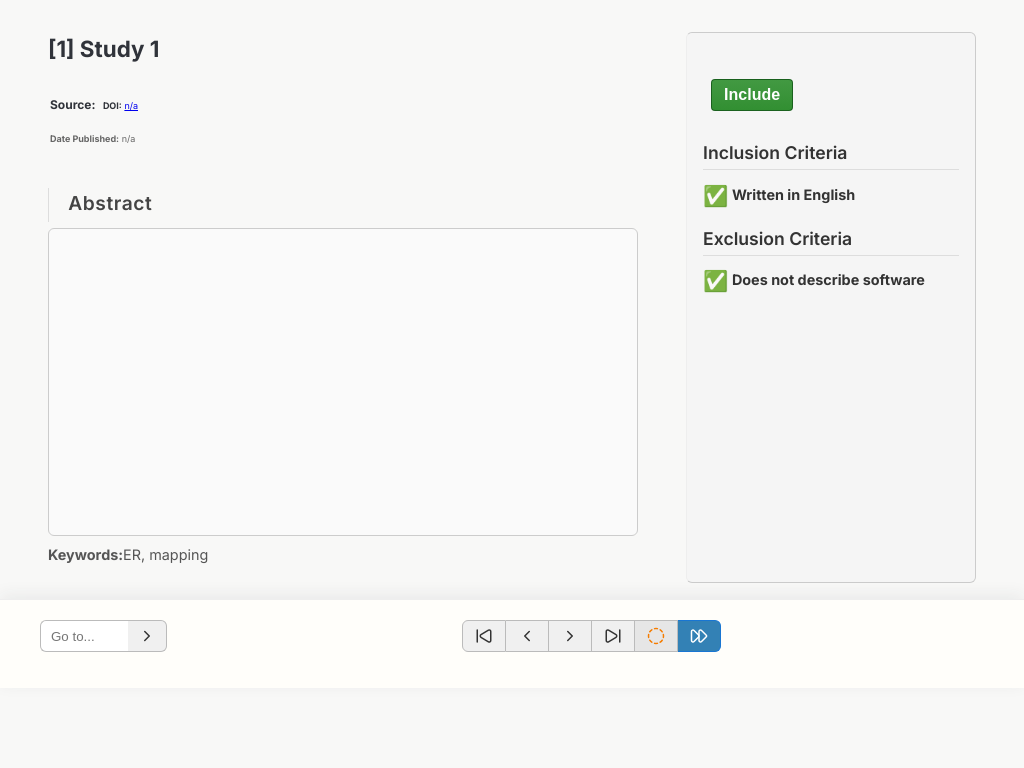
Scenario: EvidenceEditor › navigates to a previous record
The image size is (1024, 768).
Check: the heading "[1] Study 1" is shown, box [48,35,160,62]
Click the button titled "Previous item" at point(528, 636), box [506,620,549,652]
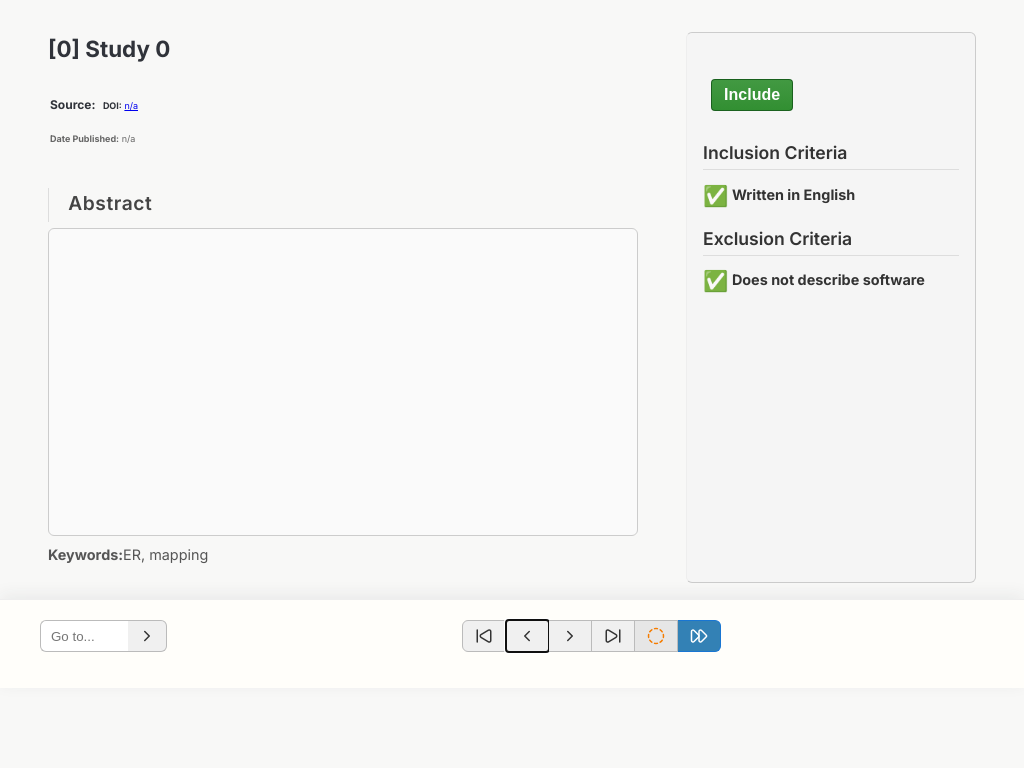
Check: the heading "[0] Study 0" is shown, box [48,35,170,62]
